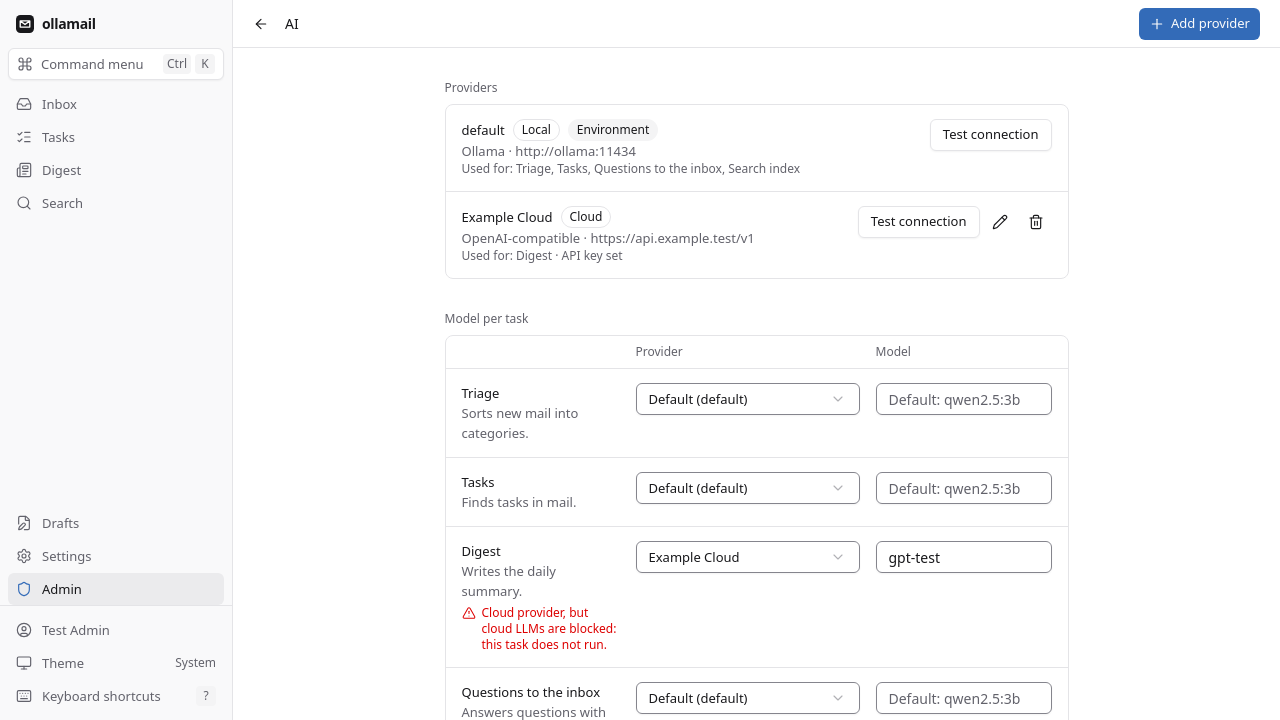
Scenario: AI settings › explains why a provider in use cannot be deleted
Expected: the heading "AI" is shown, [285,14,299,34]
Click the button named "Delete: Example Cloud".
click(1036, 222)  # box [1020,206,1052,238]
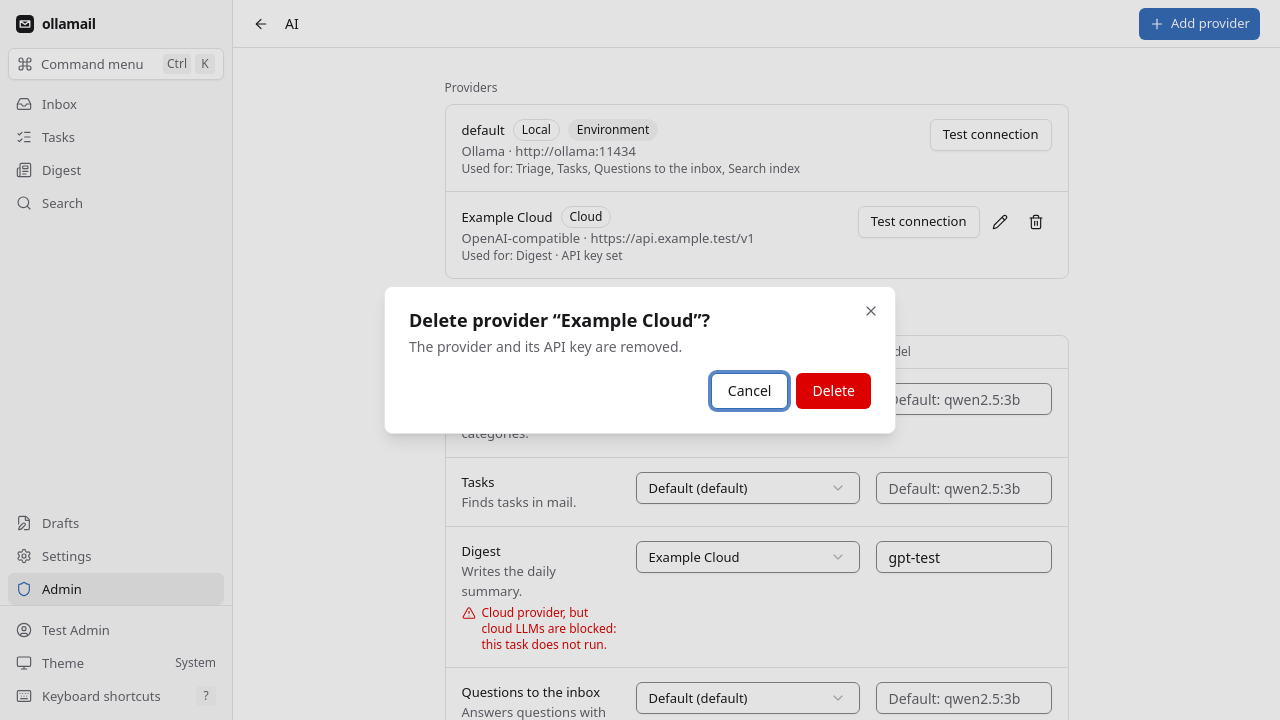
Click the button "Delete".
click(834, 391)  # box [796,373,871,409]
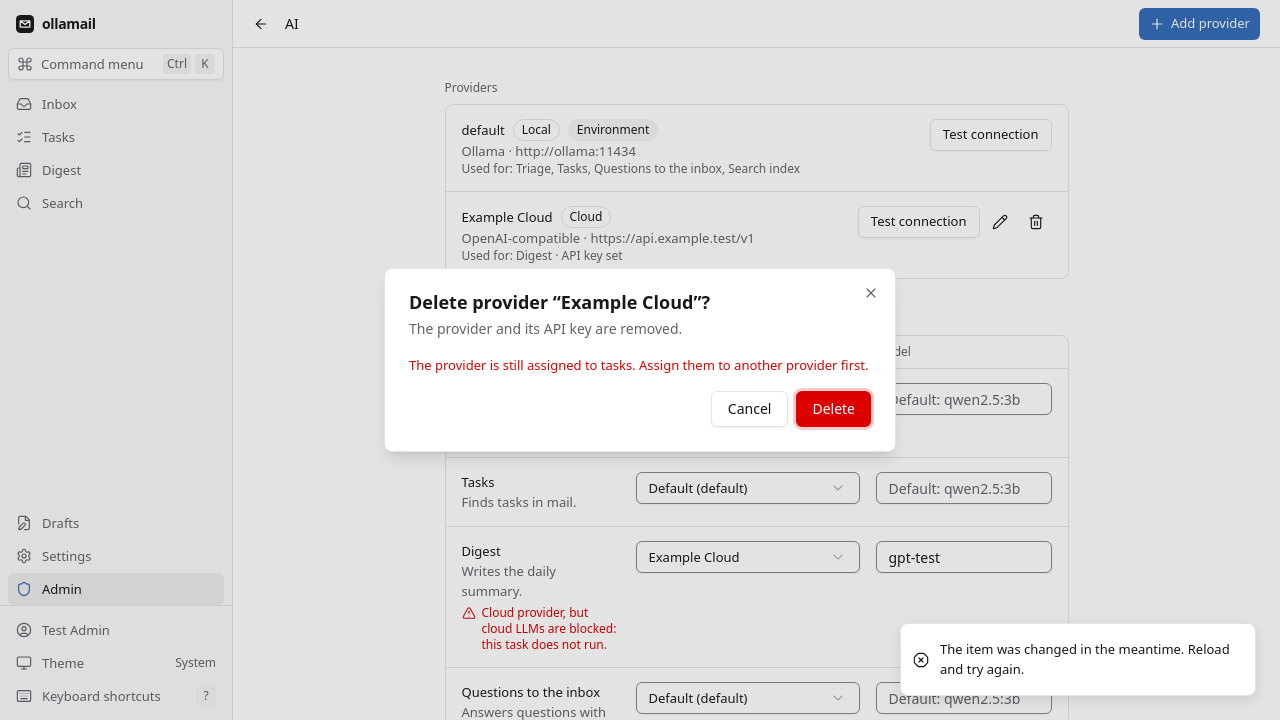
Expected: the message shows "The provider is still assigned to tasks.", [409,356,868,374]
